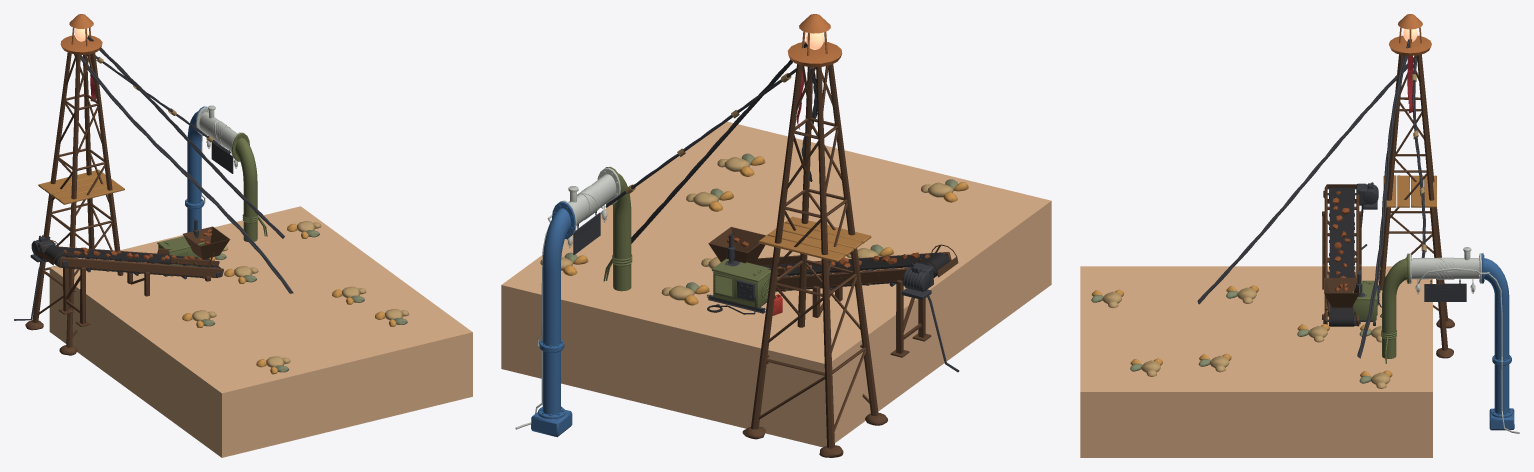
File: nomad_mine_yard.fbx
3 renders of one model, left to right at view 1: azimuth 30°, elevation 25°; view 2: azimuth 150°, elevation 25°; view 3: azimuth 270°, elevation 25°, orthographic. The views are drawn at different scales.
Visible parts, largest first — view 1: NomadMineYard; view 2: NomadMineYard; view 3: NomadMineYard.
Part boxes in pixels (x1,y1,x2,y2): NomadMineYard: [14, 14, 472, 457]; NomadMineYard: [501, 14, 1051, 457]; NomadMineYard: [1080, 14, 1519, 457].
Size of the model in its own units: 2274 by 2209 by 2647.
